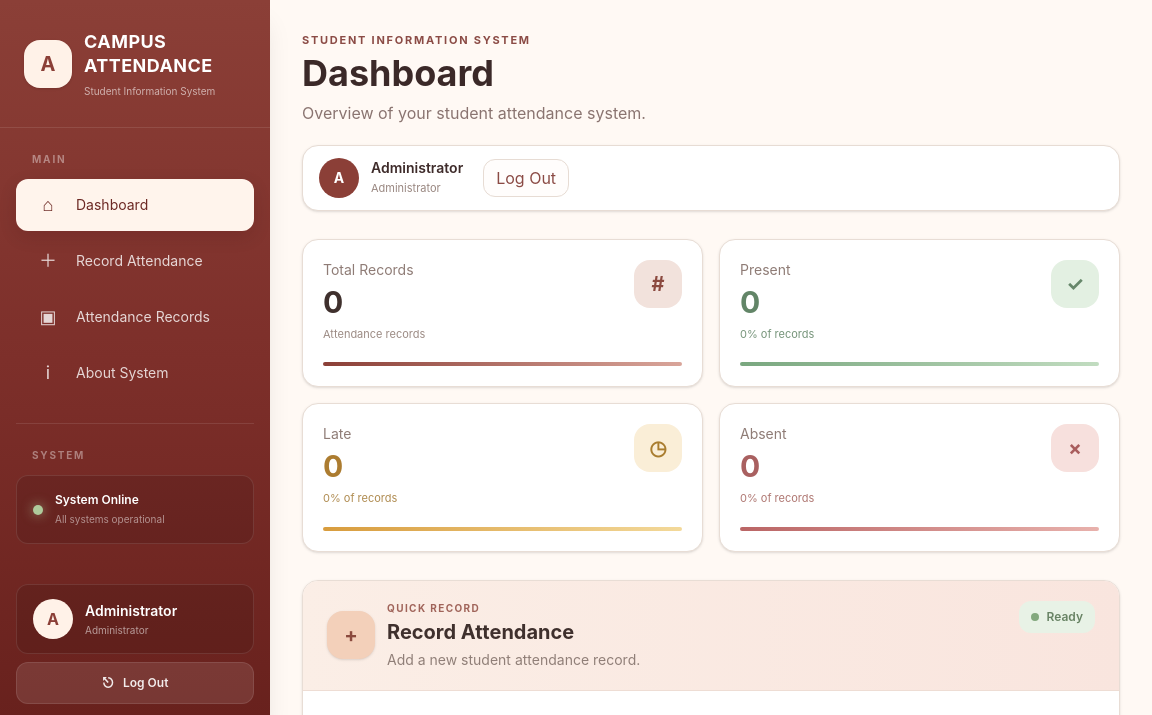
Test: App session integration › logs out and returns to AuthView when logout is confirmed
Expected: the element with id "dashboard" is shown, [302,32,1120,210]
Click the button "⎋ Log Out".
click(135, 683)  # box [16,662,254,704]
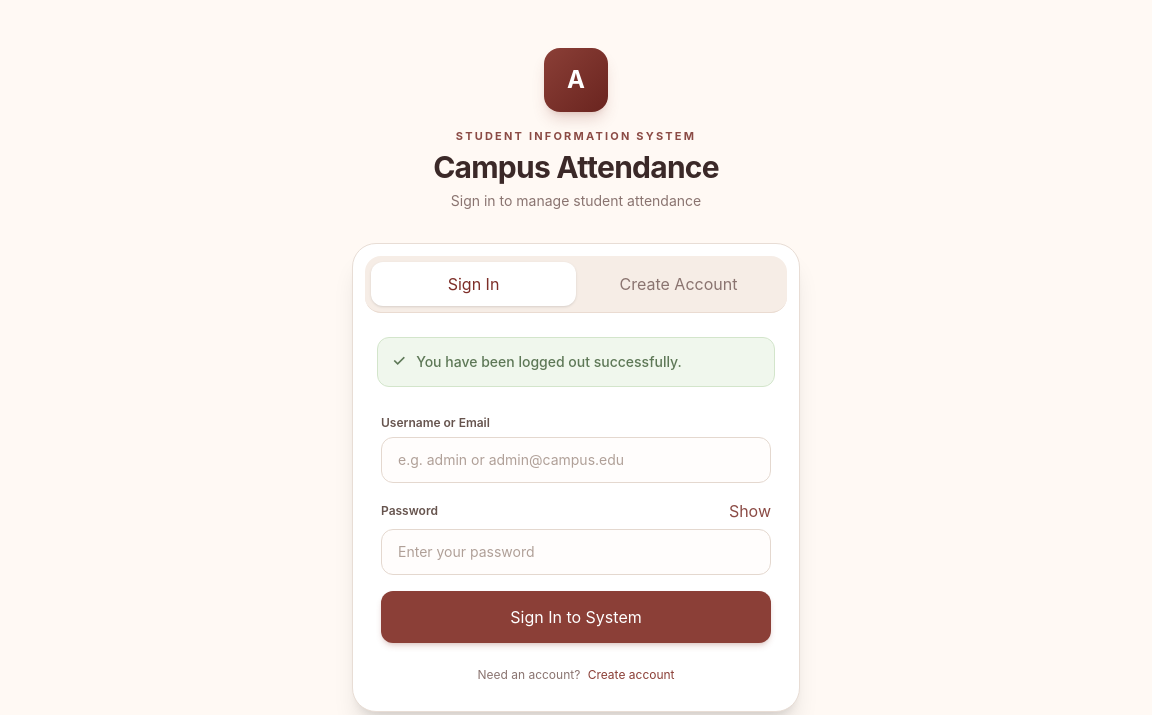
Expected: the text "Sign In to System" is shown, [381,590,771,642]
Expected: the text "You have been logged out successfully." is shown, [416,352,682,370]
